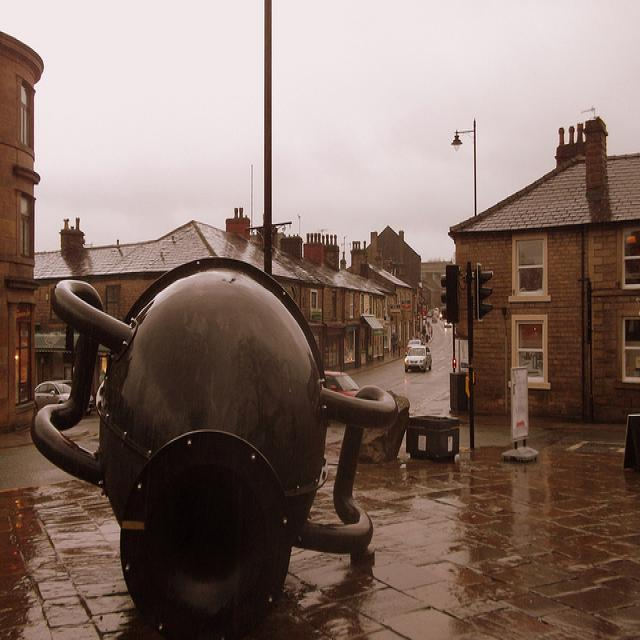Vehicle: (35, 381, 71, 411), (325, 369, 361, 398), (404, 345, 434, 373), (406, 338, 422, 354), (444, 318, 452, 328), (432, 316, 437, 322), (440, 310, 442, 320)
